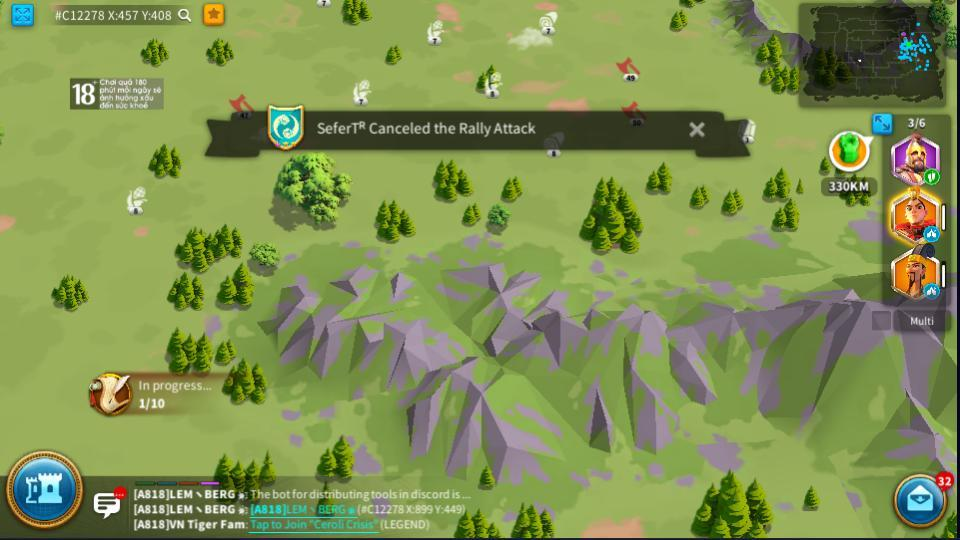march_idle: (923, 284, 939, 297), (923, 228, 938, 239)
march_marching: (923, 170, 937, 184)
